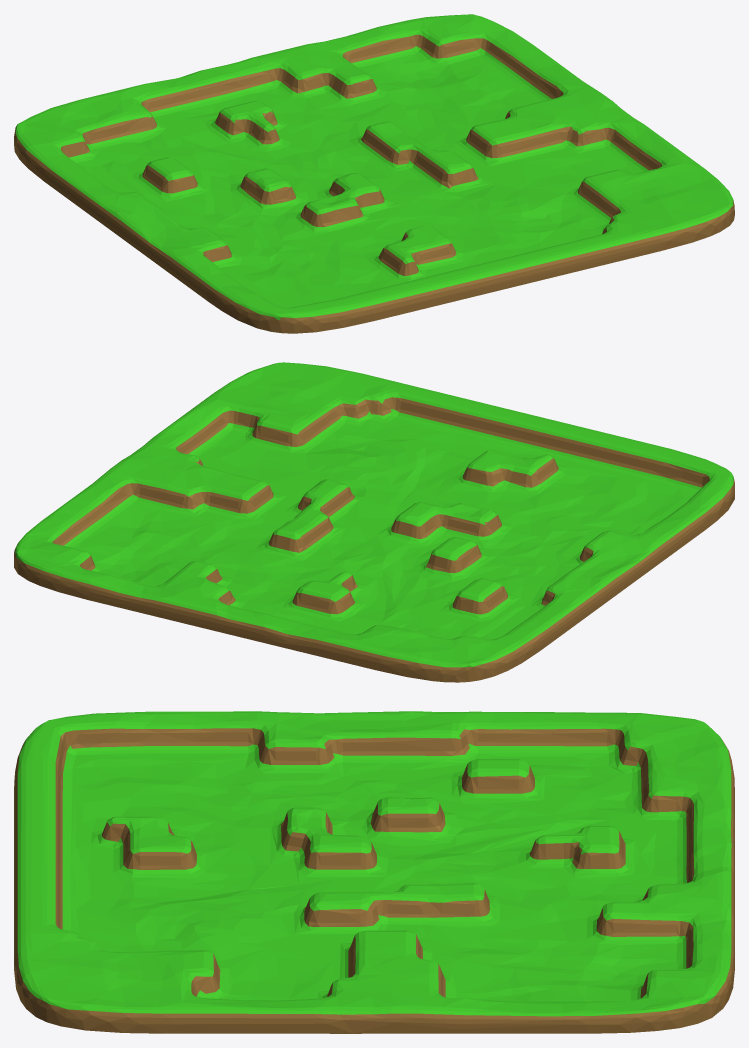
Rendered from terrain11.fbx.
The picture shows the model from 3 angles, top to bottom: view 1: azimuth 30°, elevation 25°; view 2: azimuth 150°, elevation 25°; view 3: azimuth 270°, elevation 25°; orthographic projection. The views are drawn at different scales.
Visible parts, largest first — view 1: terrain11; view 2: terrain11; view 3: terrain11.
Part boxes in pixels (x1=…): terrain11: x1=14, y1=14, x2=734, y2=333; terrain11: x1=14, y1=362, x2=734, y2=682; terrain11: x1=14, y1=711, x2=734, y2=1033.
Bounding box in the file's own units: 2960 × 124 × 2960.
